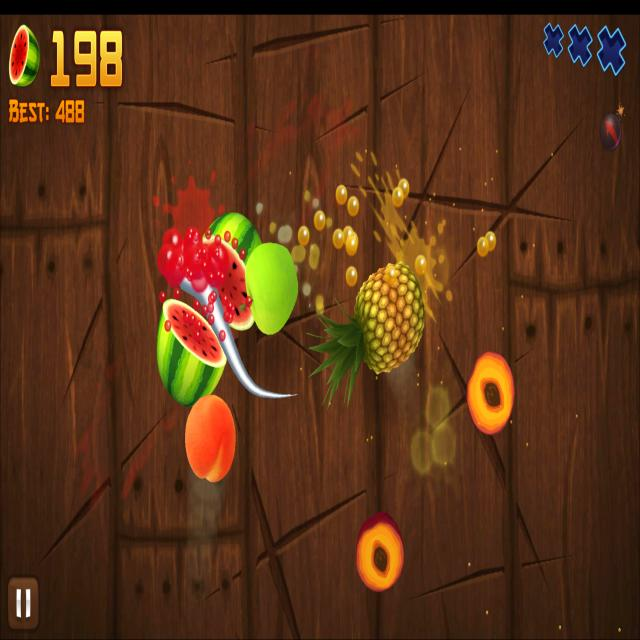fruit: (353, 262, 424, 374), (244, 241, 298, 335), (185, 393, 235, 483)
